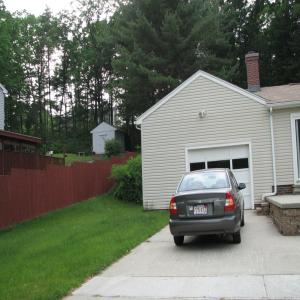Vehicle-registration-plate: (195, 205, 208, 216)
